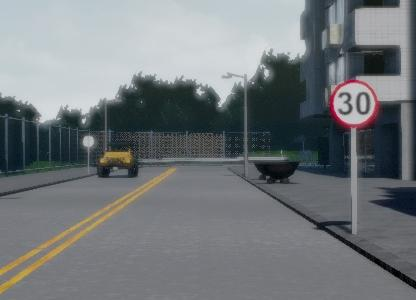Speed_30: (329, 80, 379, 127)
